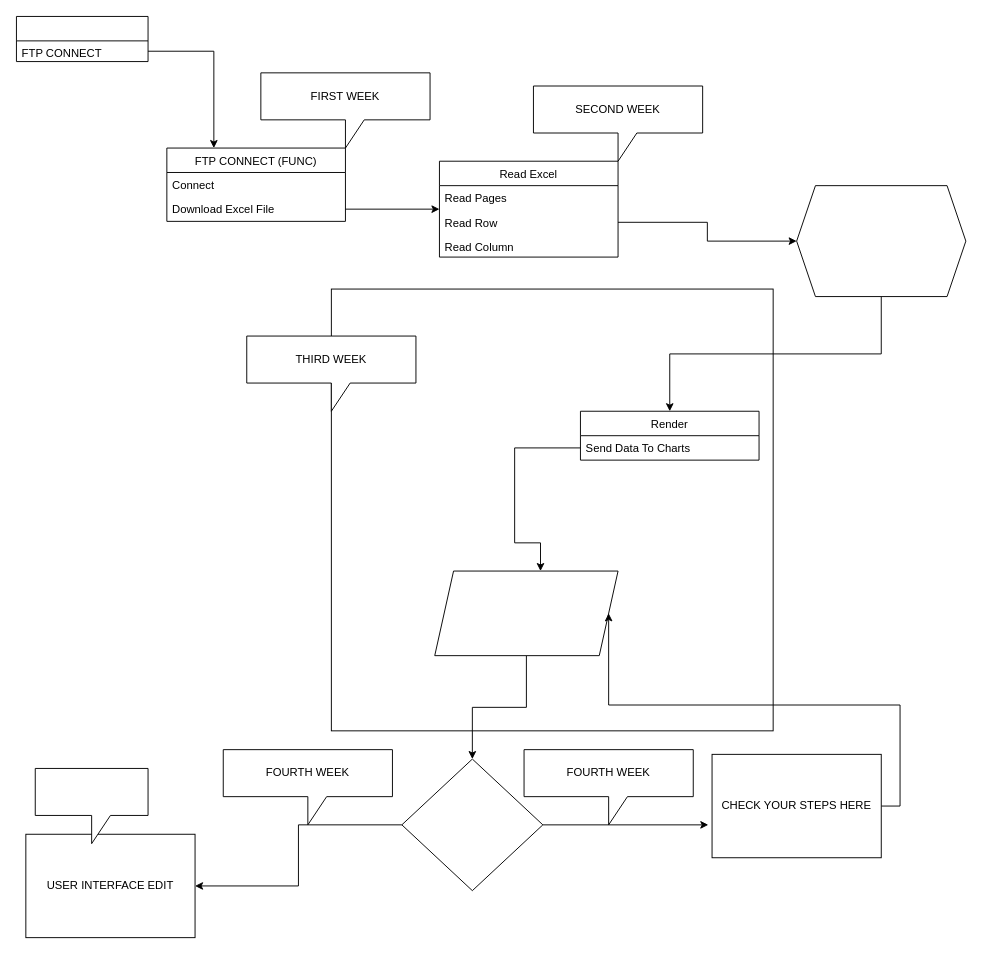
Image size: 982x954. Some labels were removed from this diagram. Each missing label, with the box of its shape:
FIFTH WEEK: (34, 768, 148, 844)
Find the template If you did;: (796, 185, 966, 297)
IF TEST DONE LEFT IF NOT RIGHT: (401, 758, 543, 891)
Main Loaded: (16, 16, 148, 62)
TEST THE DATA: (434, 570, 618, 656)
